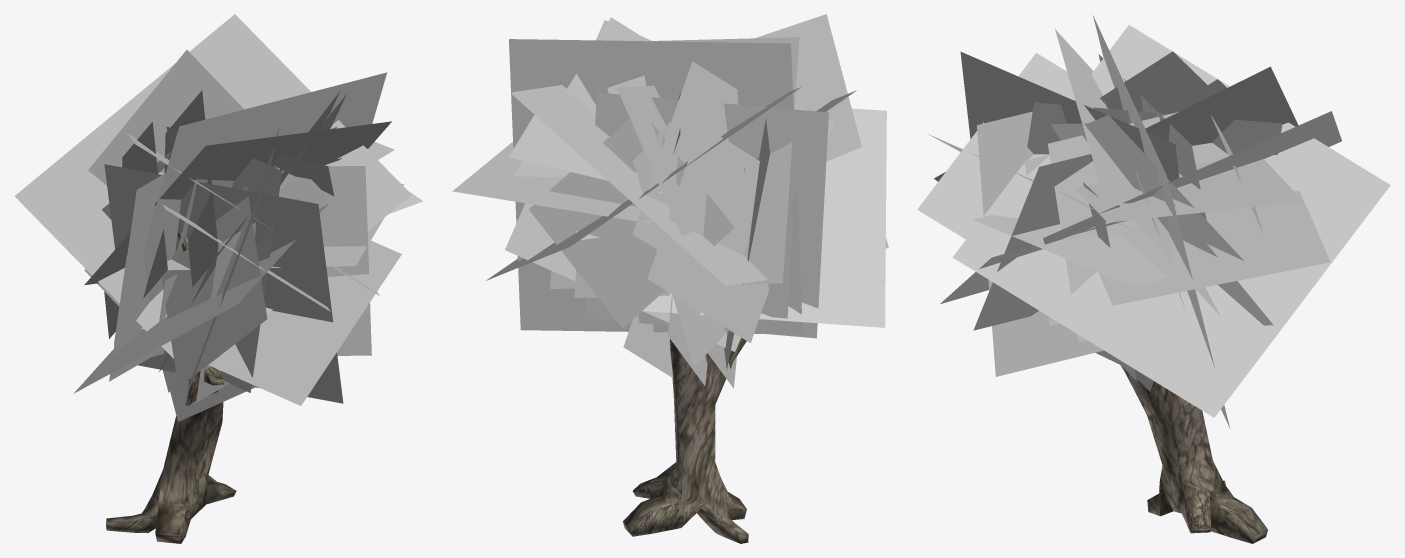
Rendered from Arvore3.fbx.
3 views of the same model, side by side, from view 1: azimuth 30°, elevation 25°; view 2: azimuth 150°, elevation 25°; view 3: azimuth 270°, elevation 25° (orthographic). The views are drawn at different scales.
Parts seen in each view (by area): view 1: Folhas3, Tronco4; view 2: Folhas3, Tronco4; view 3: Folhas3, Tronco4.
Boxes of the visible parts, x1,y1,x2,y2 form: Folhas3: (14,14,422,421); Tronco4: (106,231,236,543); Folhas3: (452,14,888,388); Tronco4: (623,338,748,543); Folhas3: (917,14,1390,428); Tronco4: (1121,366,1267,543).
Bounding box in the file's own units: 882 × 940 × 1065.
